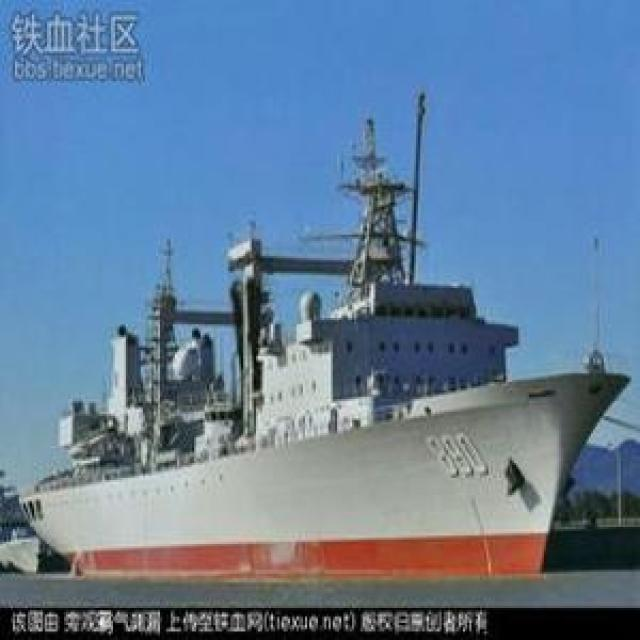navalvessels: (16, 103, 624, 574)
